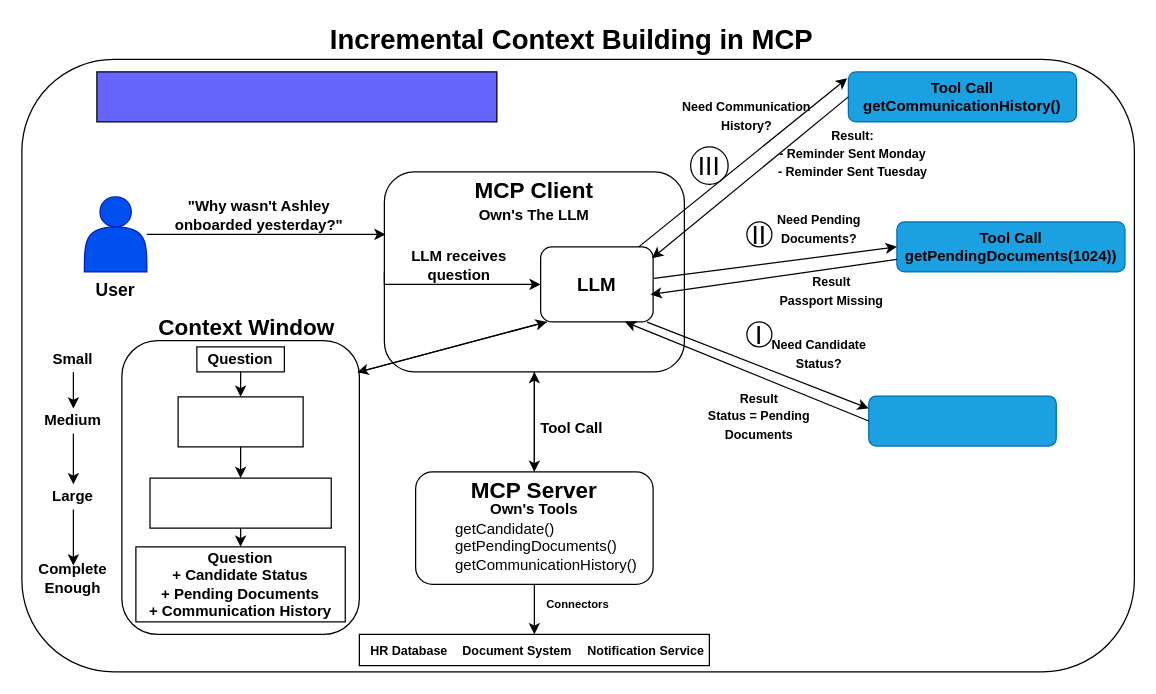
The diagram is 1156 pixels wide and 694 high, and some of its shapes have lost their labels. The centre of each missing label's shape, as x and y in pixels:
Question + Candidate Status: point 240,421
Question + Candidate Status + Pending Documents: point 240,502
Title: Candidate Onboarding Investigation: point 296,96
Tool Call getCandidate("Ashley"): point 962,420
